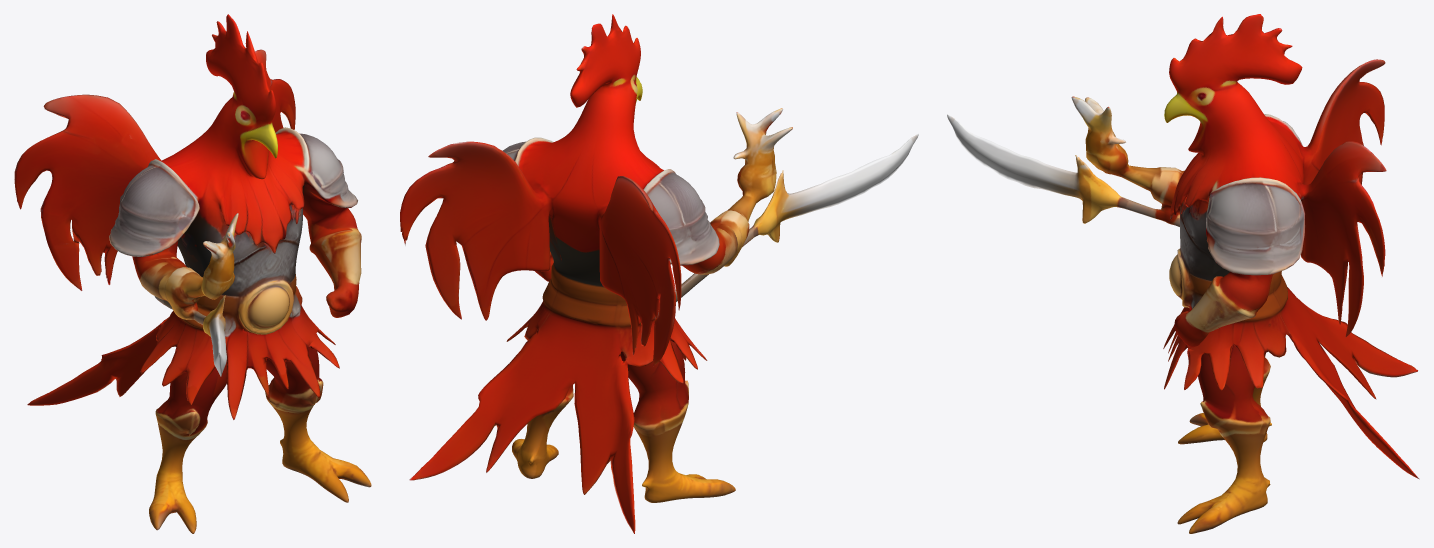
Rendered from clean-enemy-rooster.glb.
3 views of the same model, side by side, from view 1: azimuth 30°, elevation 25°; view 2: azimuth 150°, elevation 25°; view 3: azimuth 270°, elevation 25° (orthographic).
Parts seen in each view (by area): view 1: model; view 2: model; view 3: model.
Part boxes in pixels (bbox=[...]): model: bbox=[14, 14, 371, 533]; model: bbox=[400, 14, 918, 533]; model: bbox=[947, 14, 1419, 533].
Bounding box in the file's own units: 1.23 × 1.89 × 1.71.
1 material, 1 textured.
